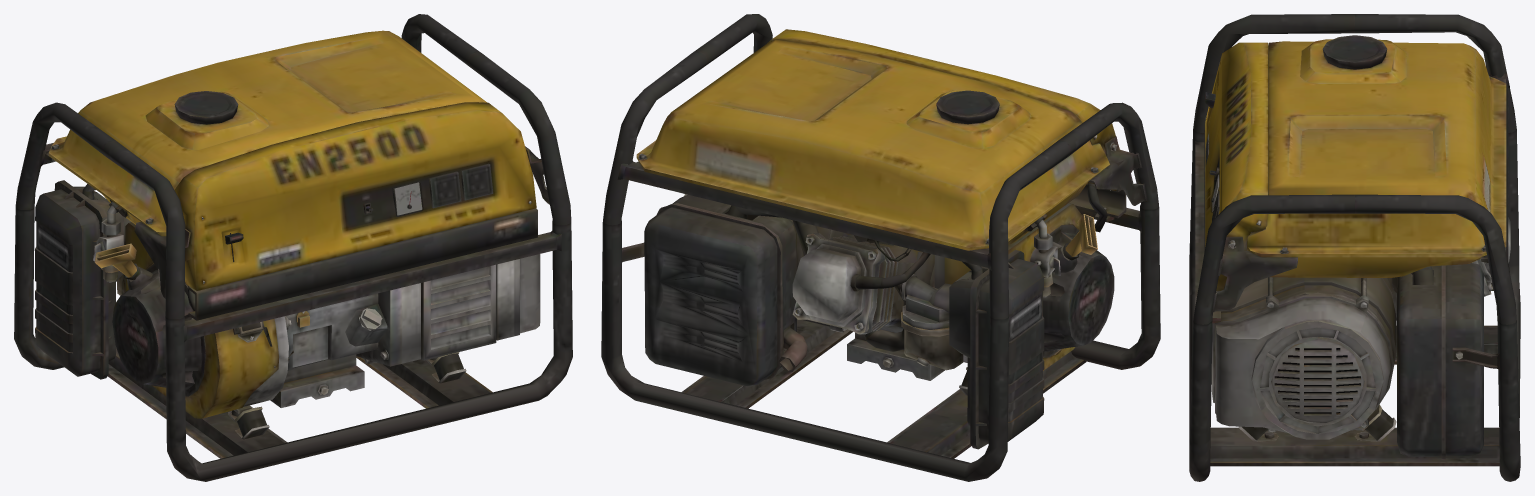
Rendered from prop-generator.glb.
3 renders of one model, left to right at view 1: azimuth 30°, elevation 25°; view 2: azimuth 150°, elevation 25°; view 3: azimuth 270°, elevation 25°, orthographic.
Parts seen in each view (by area): view 1: prop-generator; view 2: prop-generator; view 3: prop-generator.
Boxes of the visible parts, x1,y1,x2,y2 form: prop-generator: [14, 14, 572, 481]; prop-generator: [601, 14, 1160, 481]; prop-generator: [1189, 14, 1520, 481].
Bounding box in the file's own units: 0.8169 × 0.5752 × 0.564.
2 materials, 2 textured.
